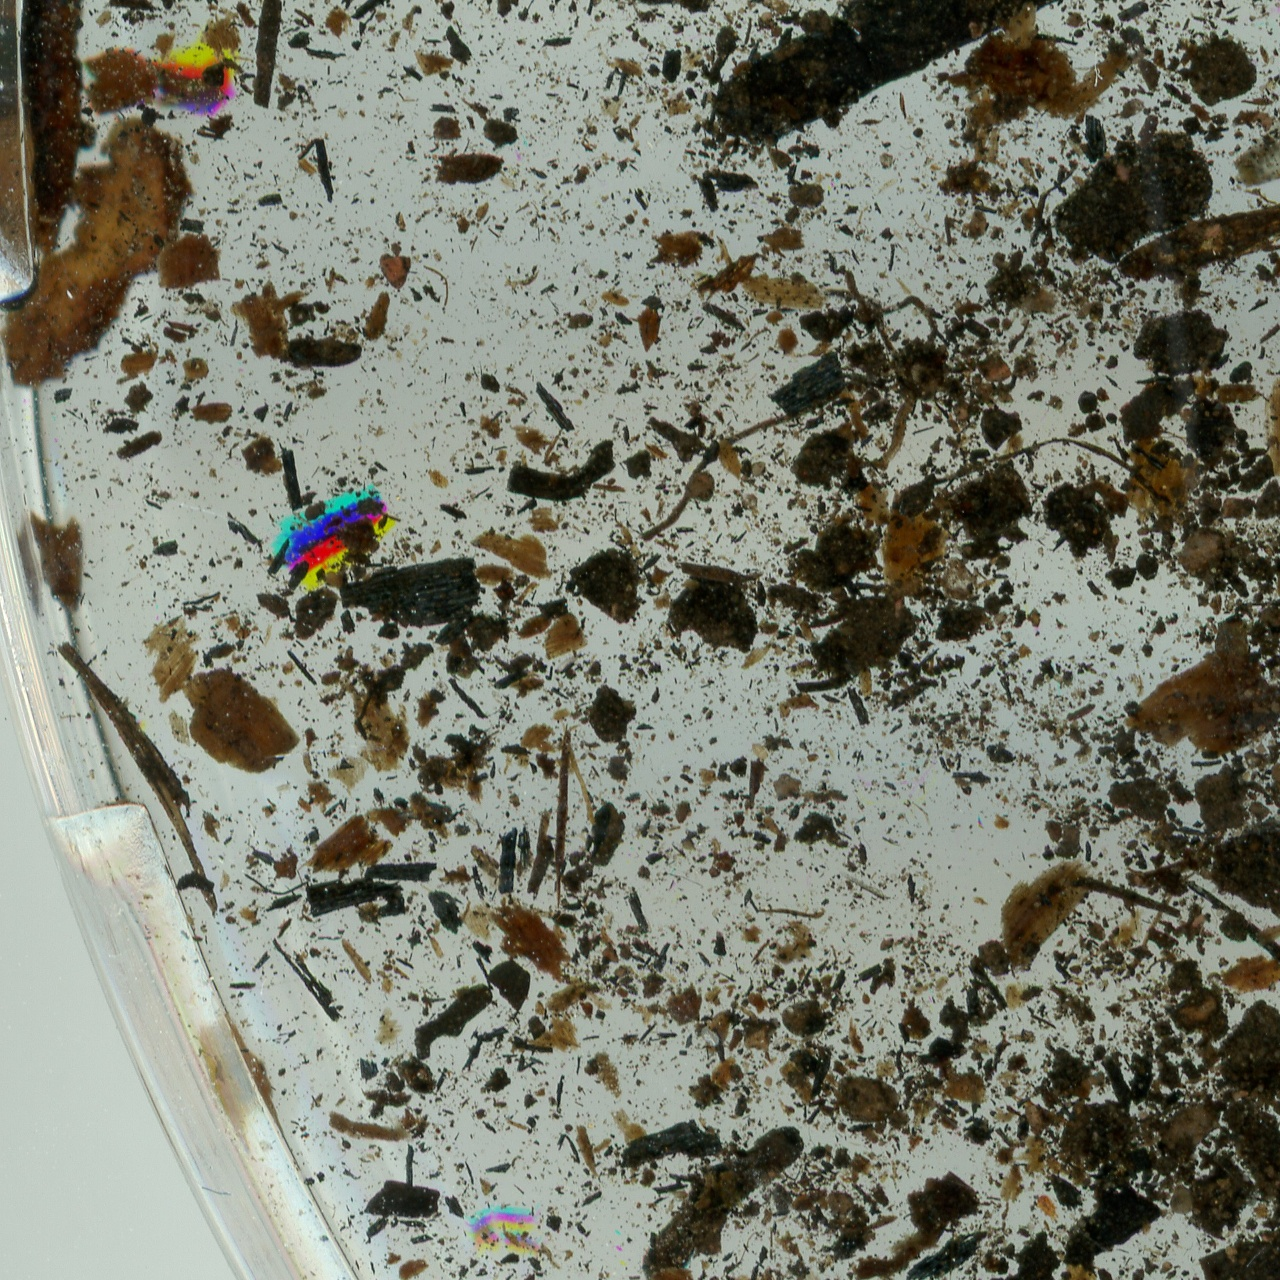arthropod: (270, 318, 365, 373), (495, 1219, 565, 1273), (581, 0, 686, 22), (1035, 1194, 1062, 1225)
